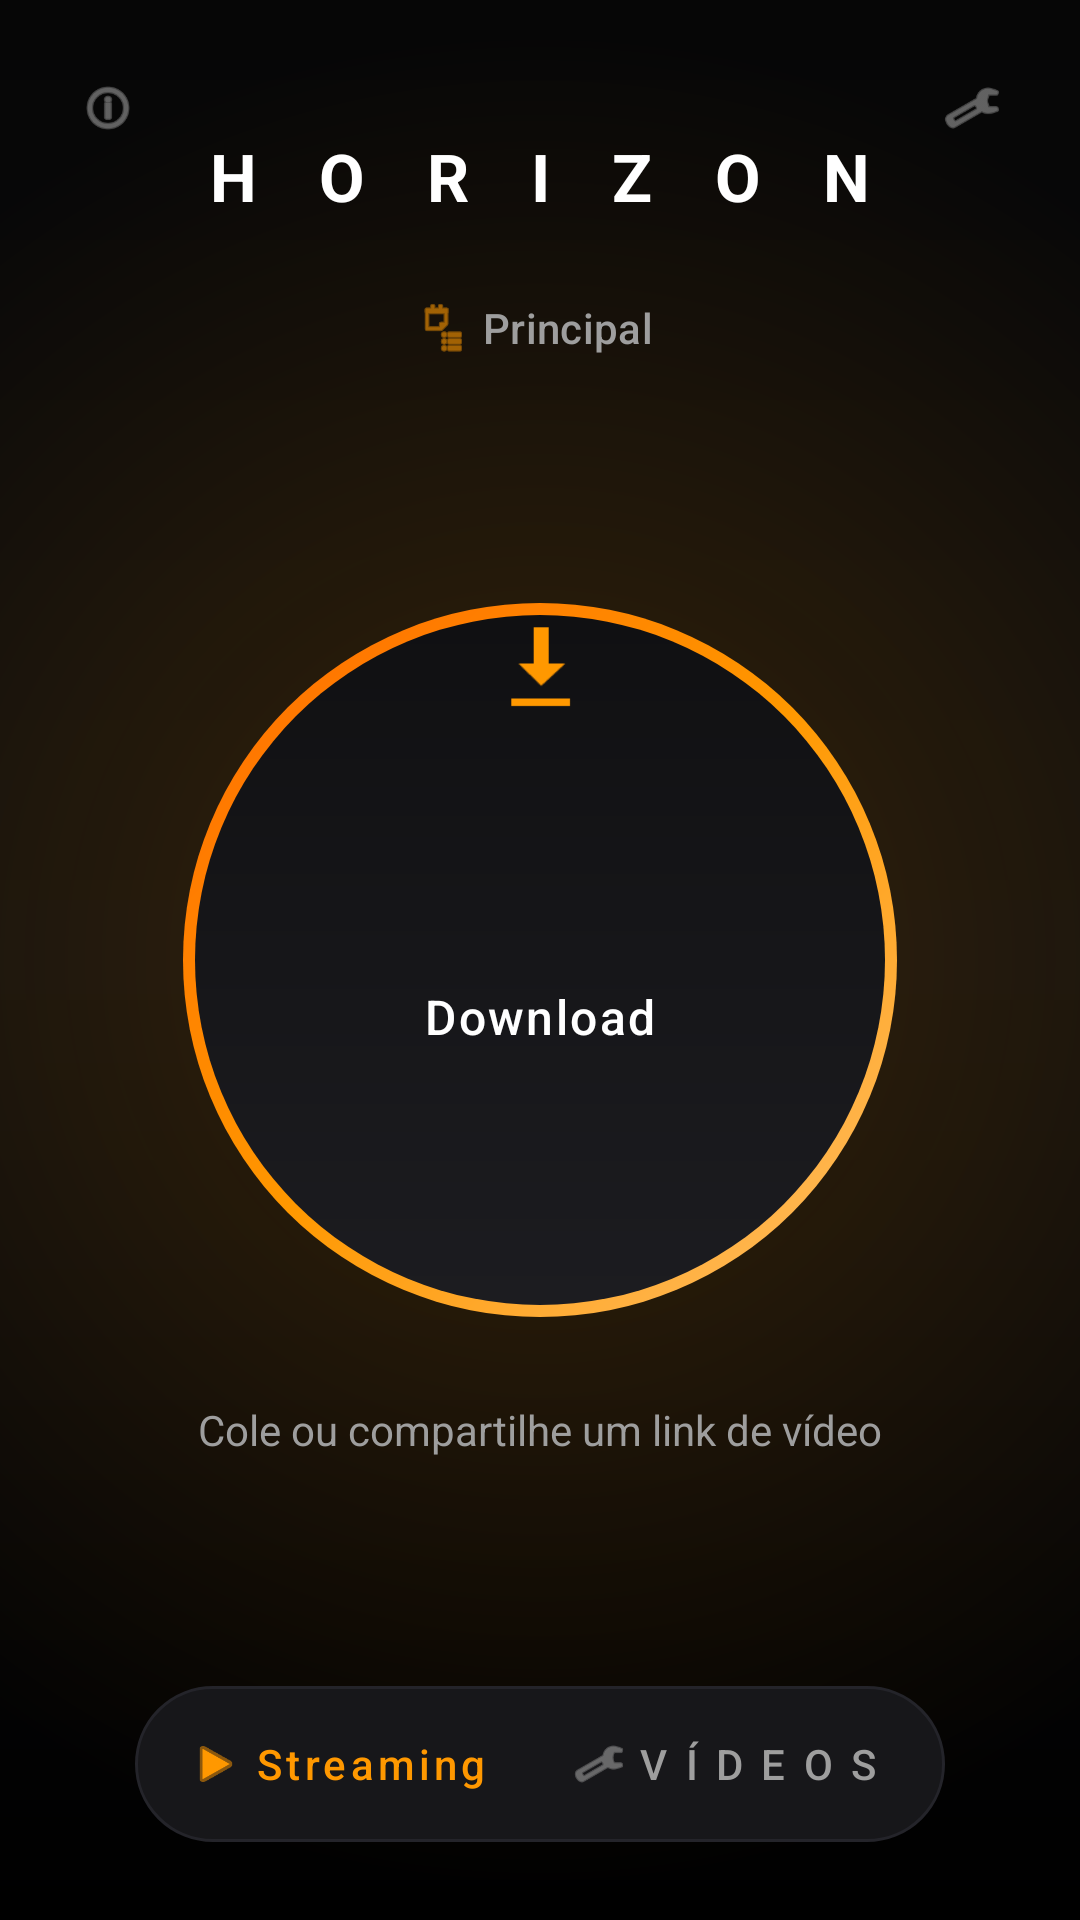

Named icons in this screenshot (1080*1920) and their centers, (x,y):
info details: (108,108)
preferences: (972,108)
